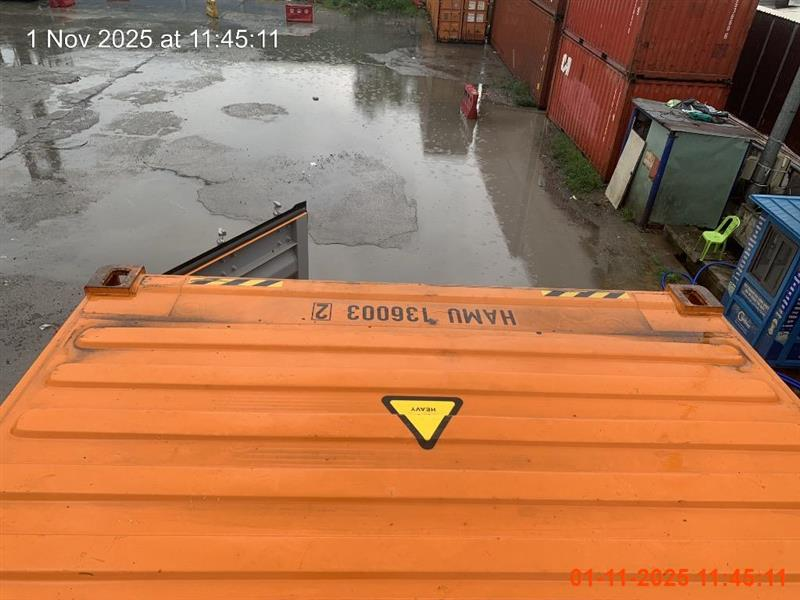broken: (1, 253, 798, 593), (697, 215, 740, 261), (283, 0, 315, 23)
